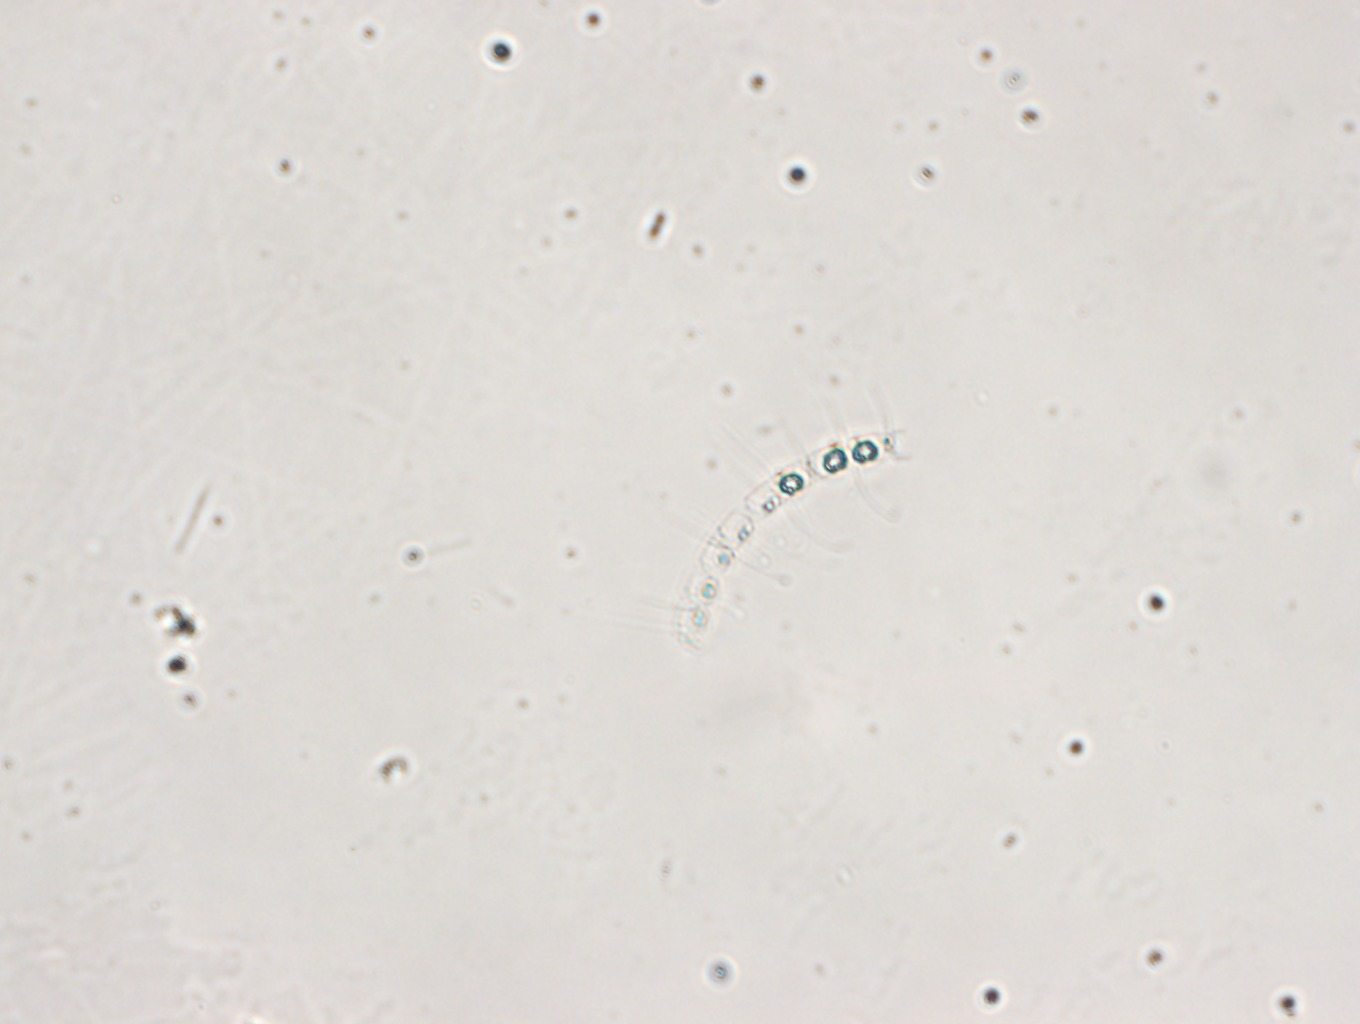chaetoceros: (627, 386, 915, 657)
